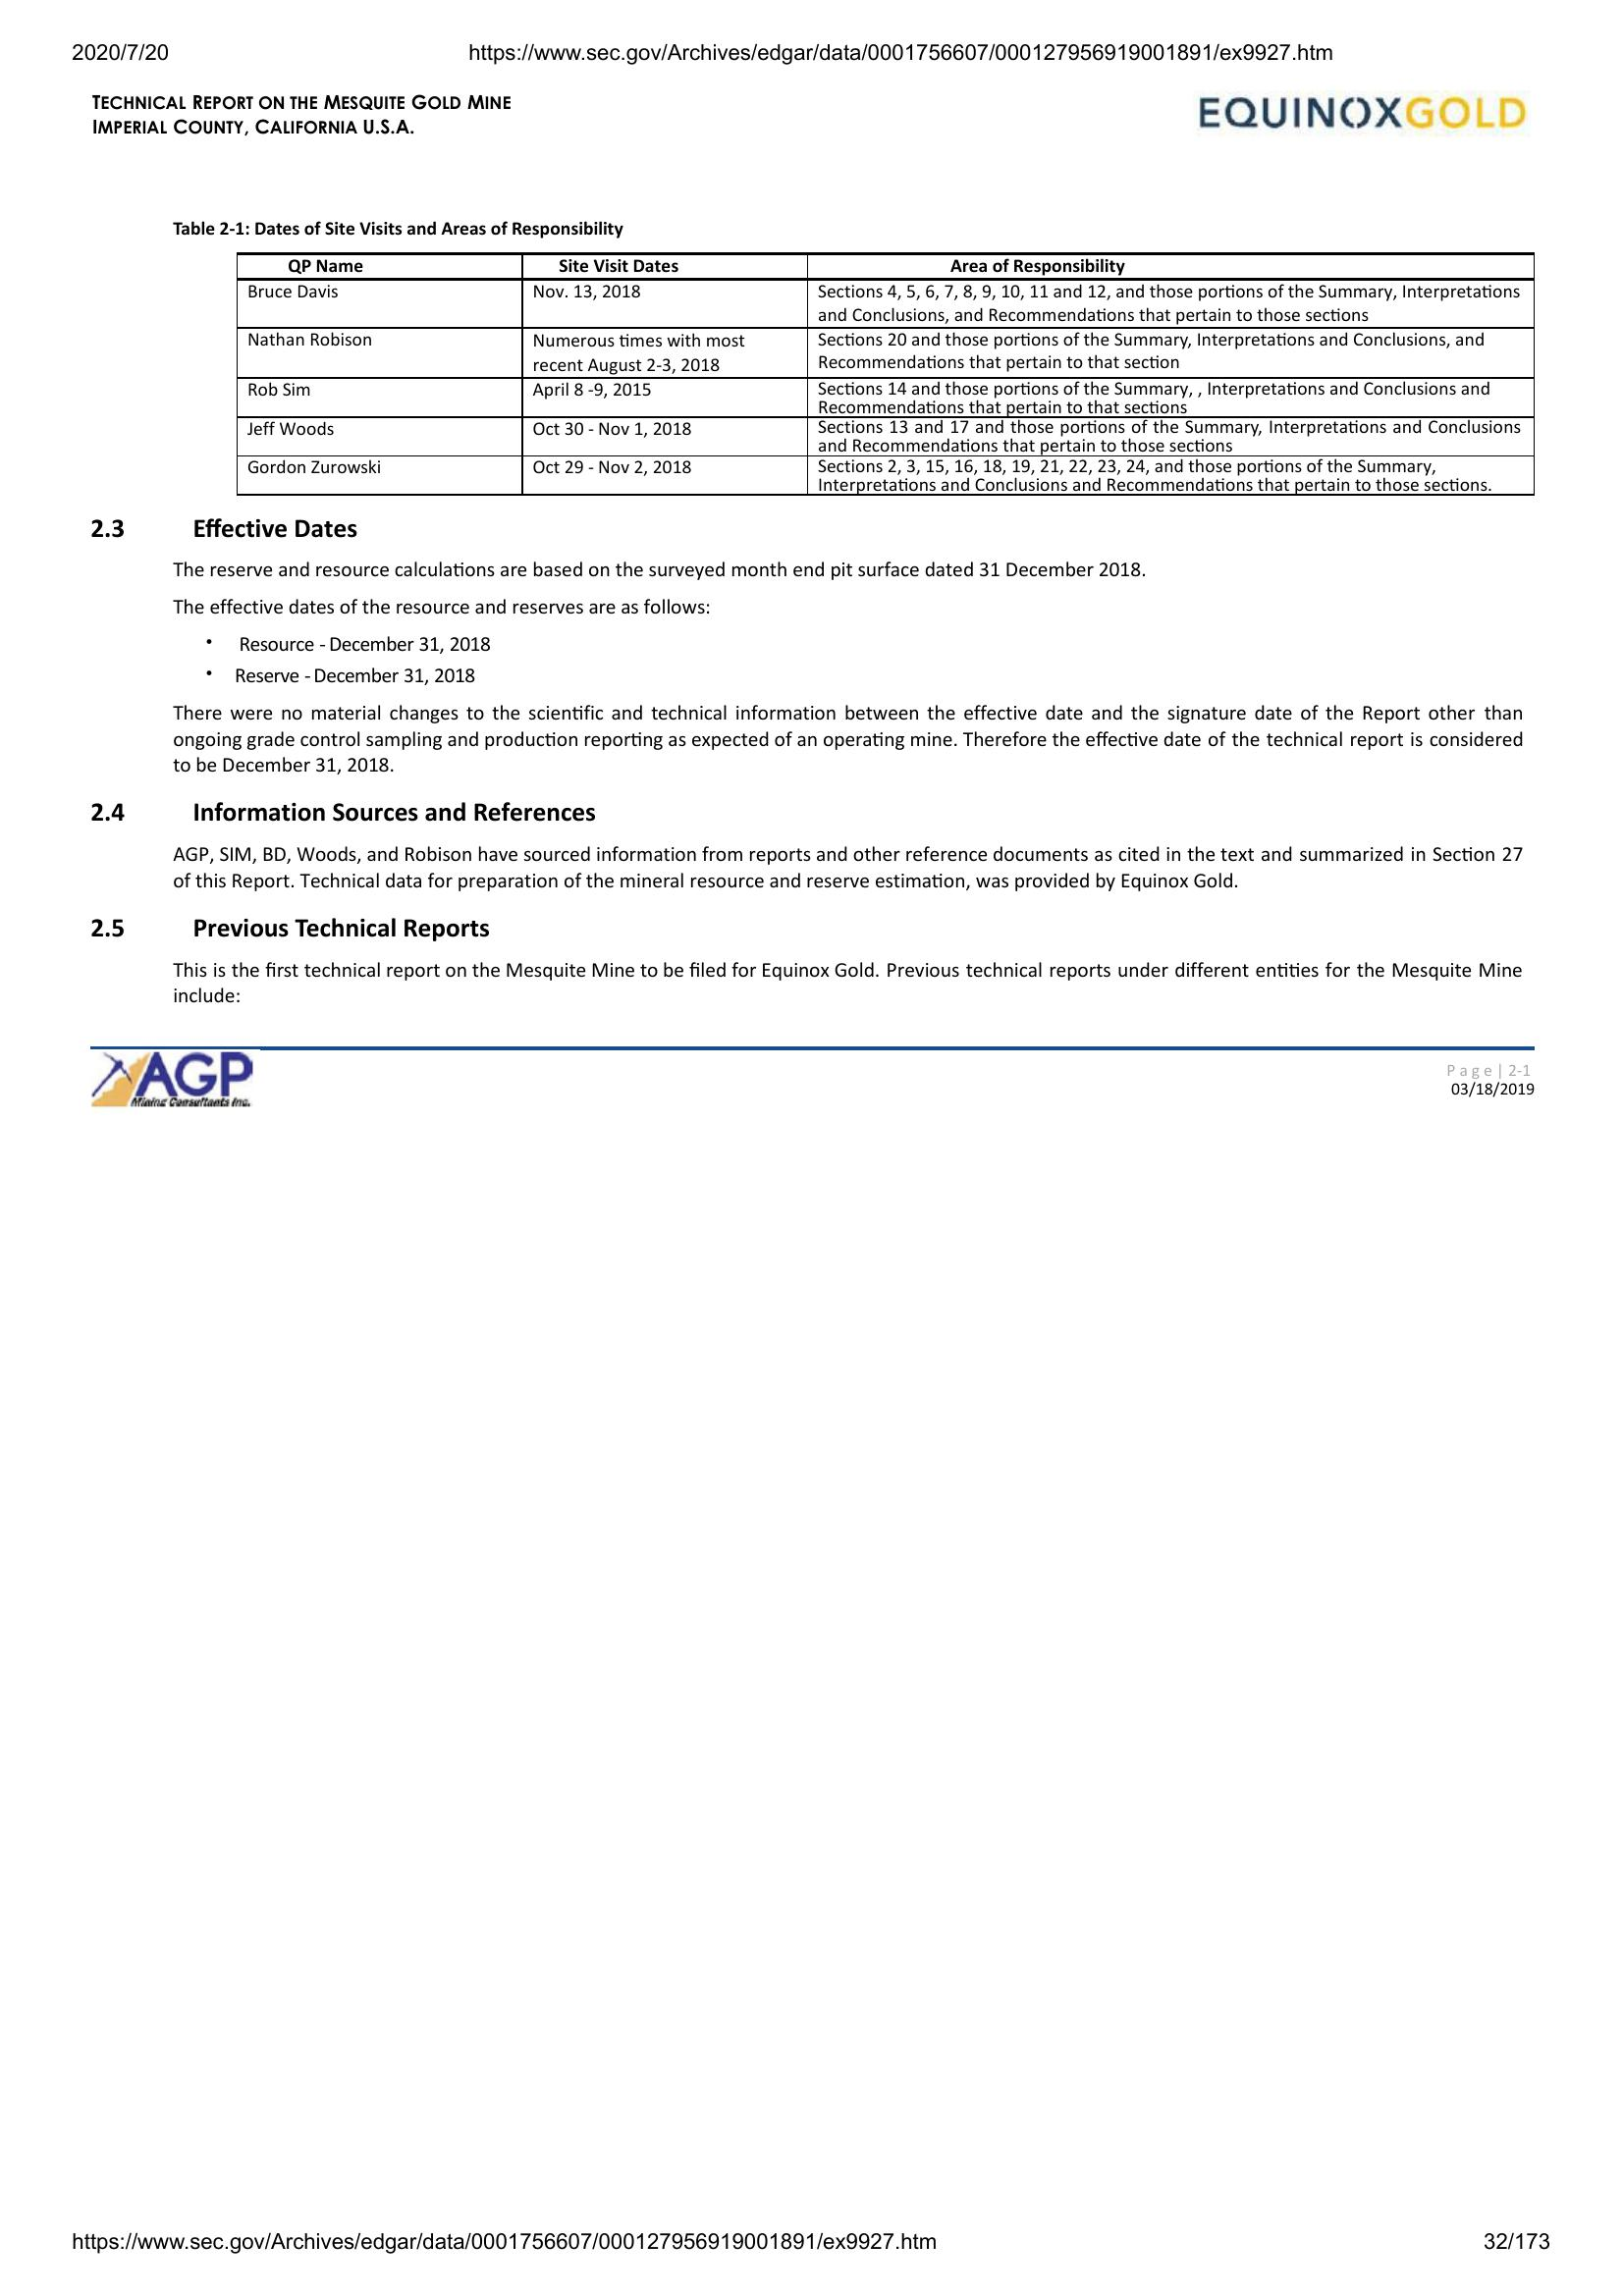table: (230, 246, 1542, 504)
